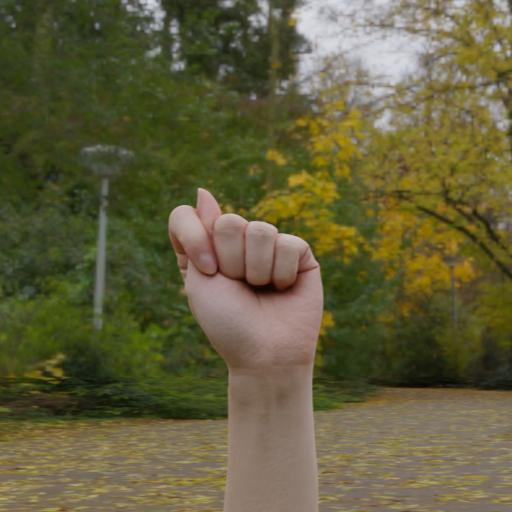T: (152, 160, 386, 462)
